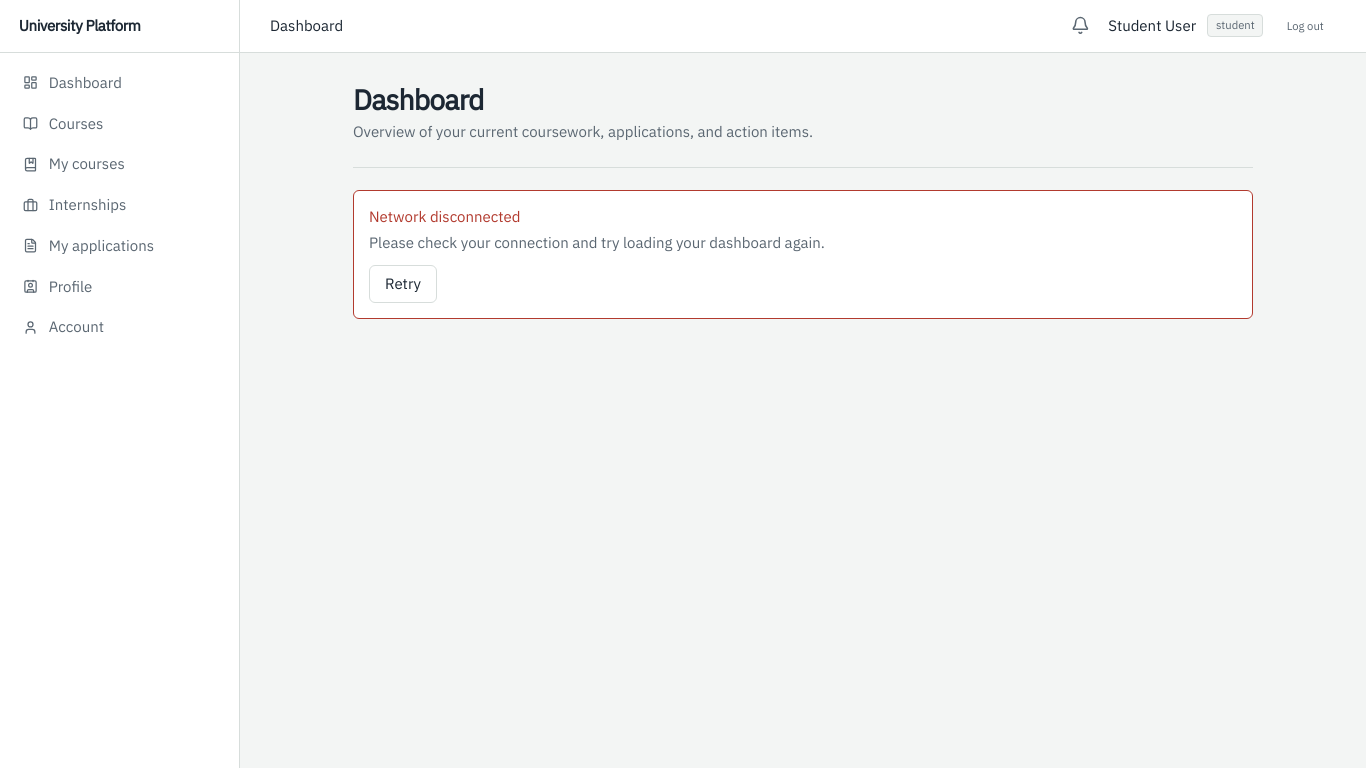
Test: DashboardPage › renders error state and retries on button click
Expected: the text "Network disconnected" is shown, [369,207,520,226]
Click the button "Retry" at (403,284), box [369,265,437,303]
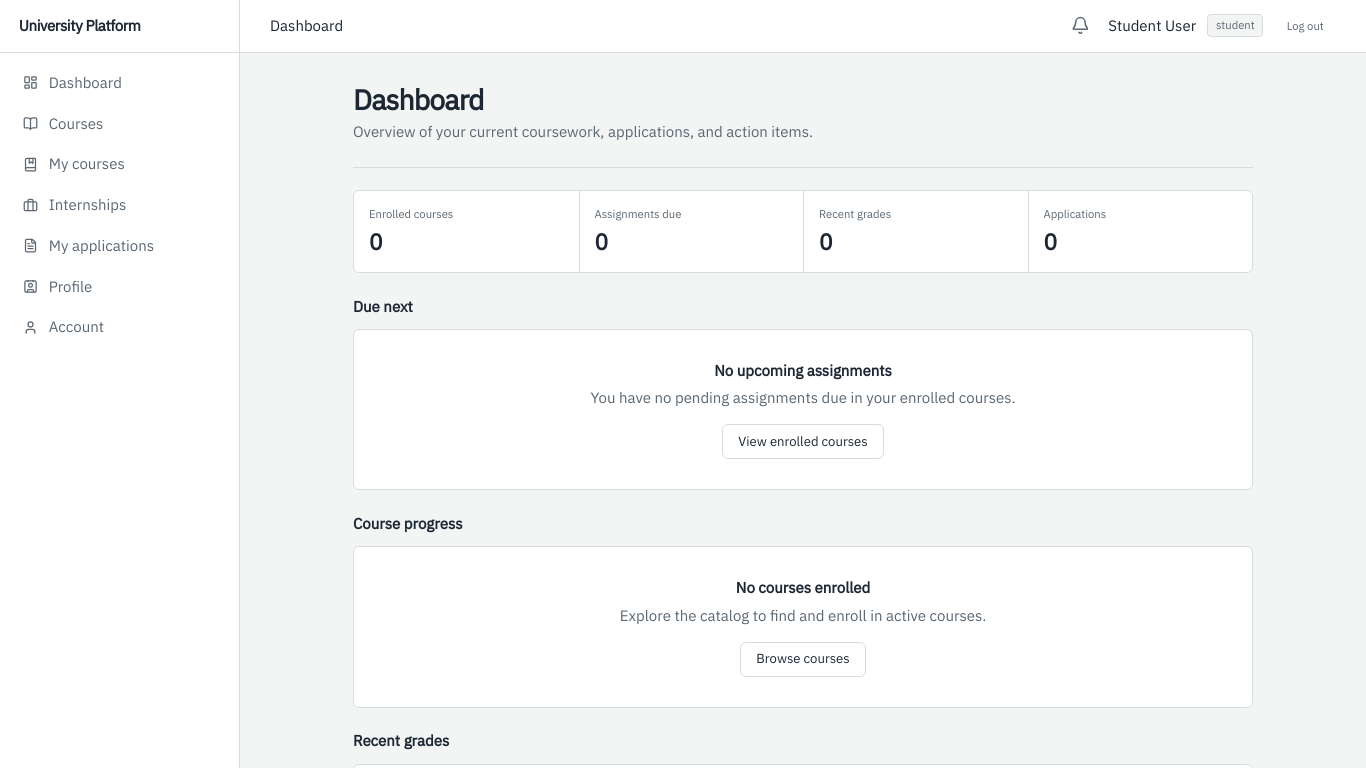
Now the heading "No upcoming assignments" is shown, box [714,360,892,382]
